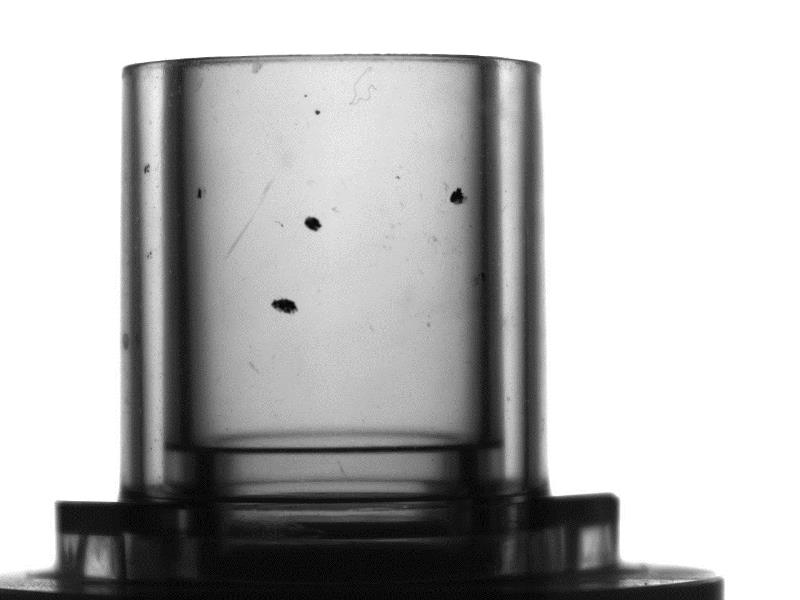blackdot: (269, 295, 301, 319), (447, 182, 473, 206), (302, 215, 326, 235), (193, 183, 207, 202), (141, 160, 155, 173), (312, 107, 322, 122)
